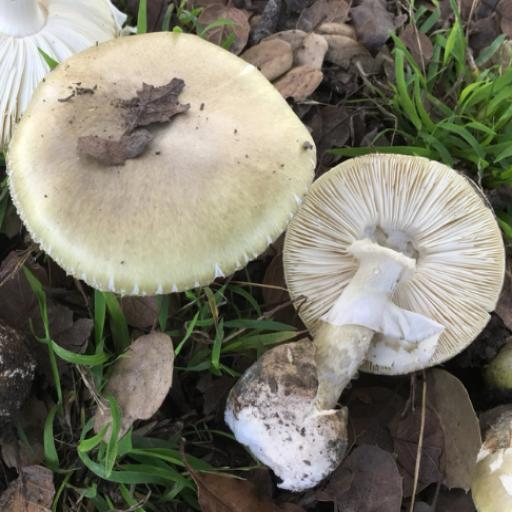mushroom: (0, 0, 348, 368), (0, 0, 1, 1)
